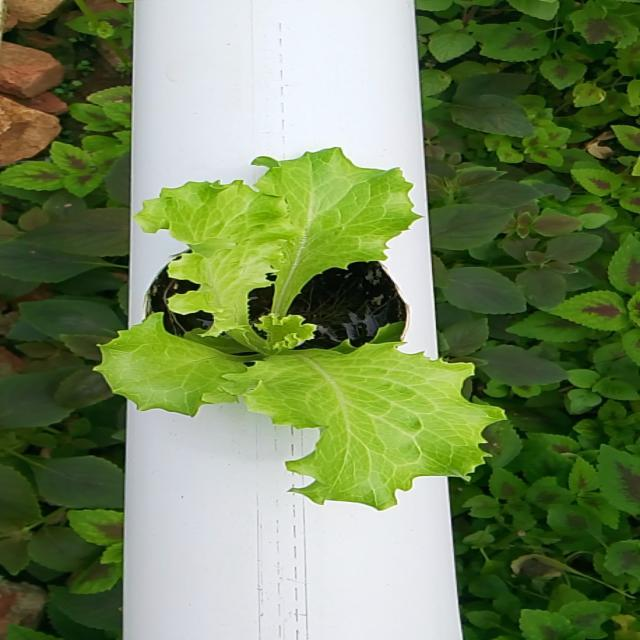Baby: (85, 151, 494, 512)
